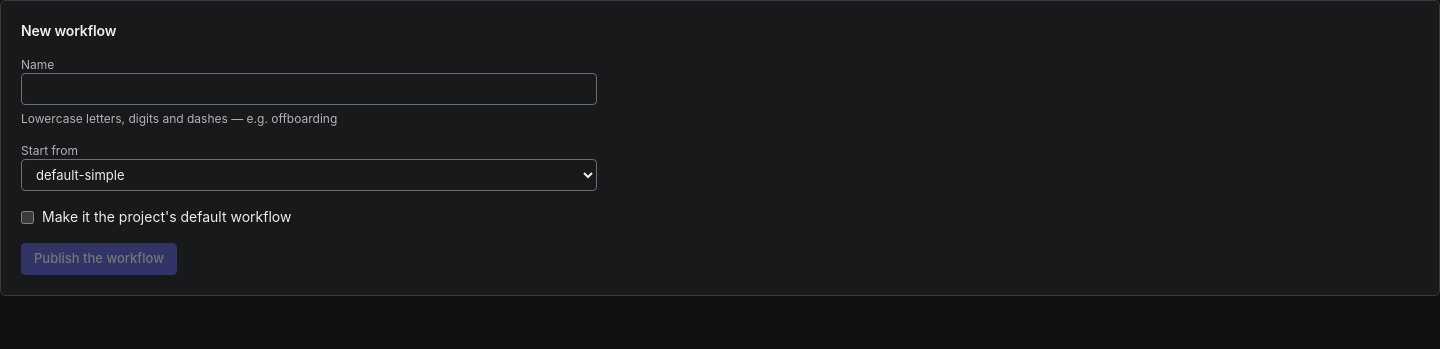
Test: créer un workflow (#336) › crée sans jamais republier, et un nom pris entre-temps se dit sous le champ
In the field labelled "Name": (309, 89) top-left (21, 73), bottom-right (597, 105), type "offboarding"
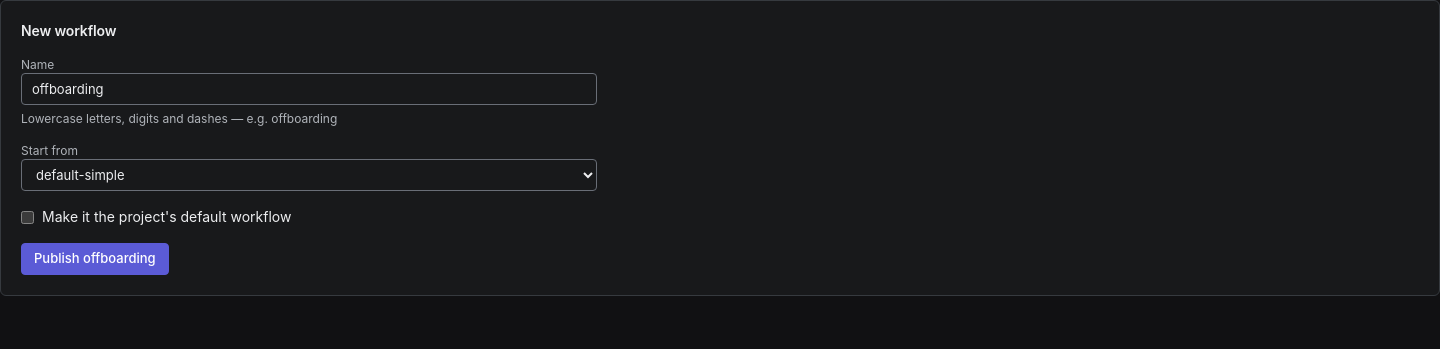
expect the button "Publish offboarding" is enabled: met
Click the button "Publish offboarding": (95, 259) top-left (21, 243), bottom-right (169, 275)
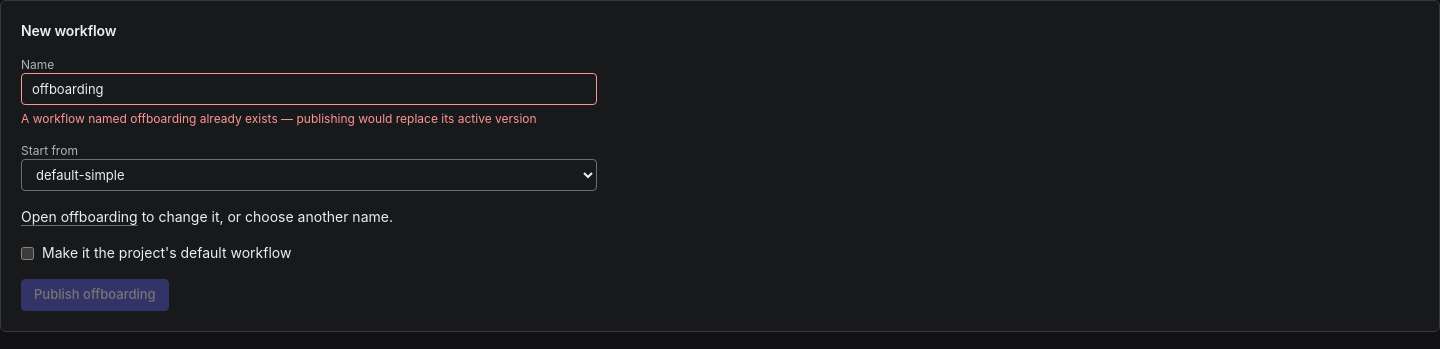
expect the text "A workflow named offboarding already exists" is shown: met, box top-left (21, 111), bottom-right (537, 126)
